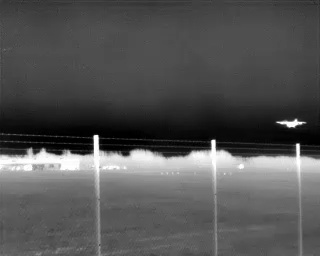AIRPLANE: (273, 115, 308, 131)
